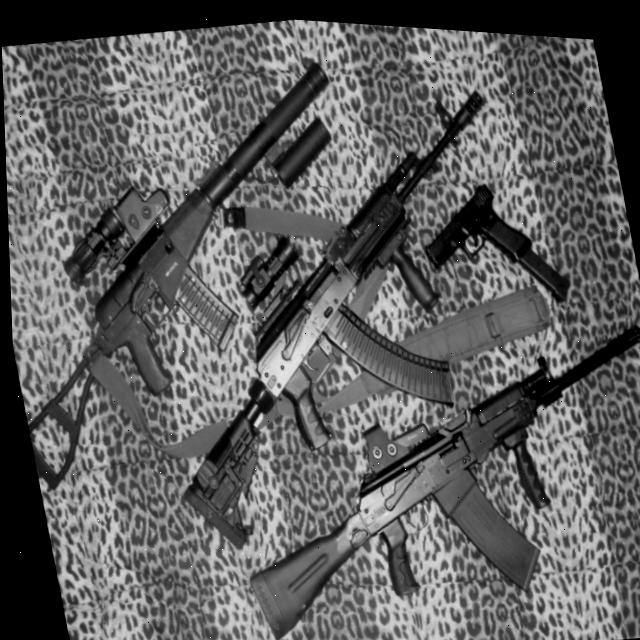firearm: (109, 65, 563, 572), (1, 37, 398, 510), (205, 293, 640, 640)
pistol: (413, 168, 535, 274)
